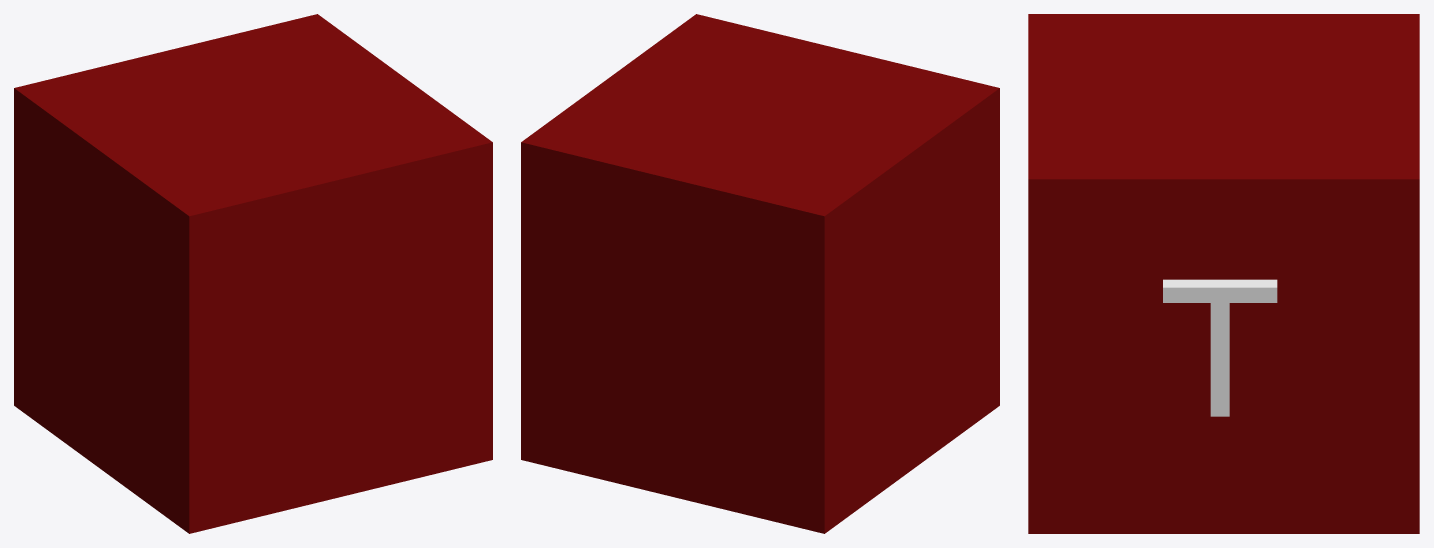
3 renders of one model, left to right at view 1: azimuth 30°, elevation 25°; view 2: azimuth 150°, elevation 25°; view 3: azimuth 270°, elevation 25°, orthographic. The views are drawn at different scales.
Parts seen in each view (by area): view 1: SketchUp; view 2: SketchUp; view 3: SketchUp, T.
Part boxes in pixels (x1=…): SketchUp: x1=14, y1=14, x2=492, y2=533; SketchUp: x1=521, y1=14, x2=999, y2=533; SketchUp: x1=1028, y1=14, x2=1419, y2=533; T: x1=1163, y1=279, x2=1277, y2=416.
Bounding box in the file's own units: 21 × 20 × 20.
